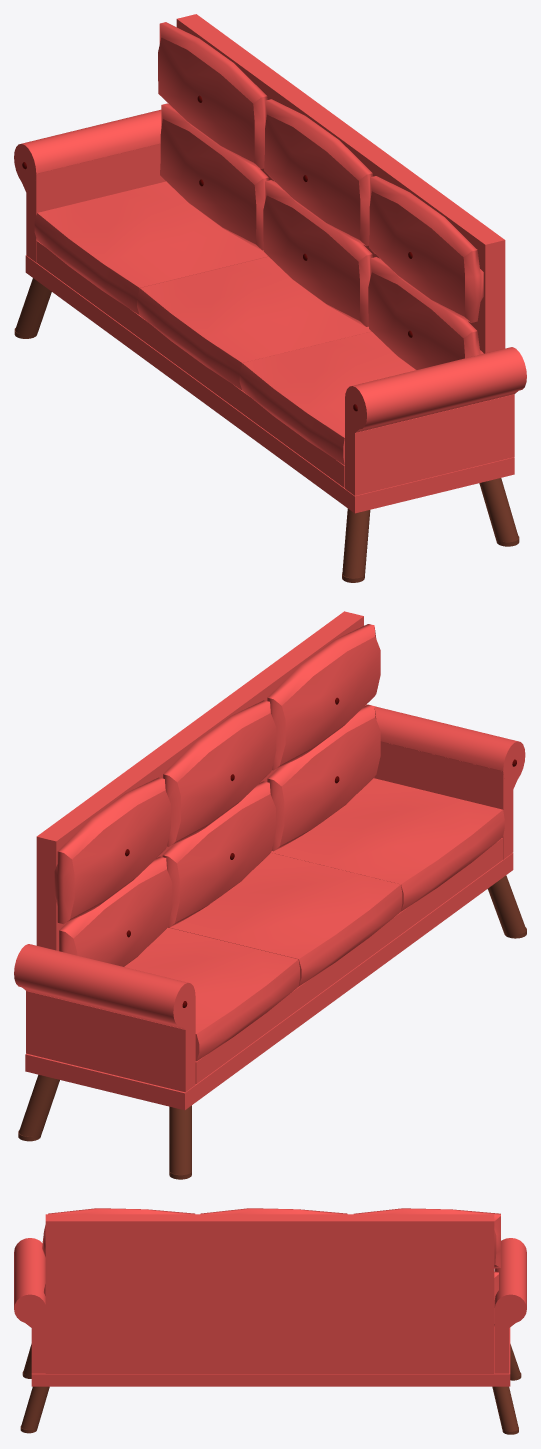
Rendered from sofaMarceline.obj.
The picture shows the model from 3 angles, top to bottom: view 1: azimuth 30°, elevation 25°; view 2: azimuth 150°, elevation 25°; view 3: azimuth 270°, elevation 25°; orthographic projection. The views are drawn at different scales.
Parts seen in each view (by area): view 1: polySurface67; view 2: polySurface67; view 3: polySurface67.
Part boxes in pixels (x1,y1,x2,y2): polySurface67: (14, 14, 526, 582); polySurface67: (14, 611, 526, 1179); polySurface67: (14, 1208, 526, 1434).
Size of the model in its own units: 1.98 by 3.15 by 6.85.
